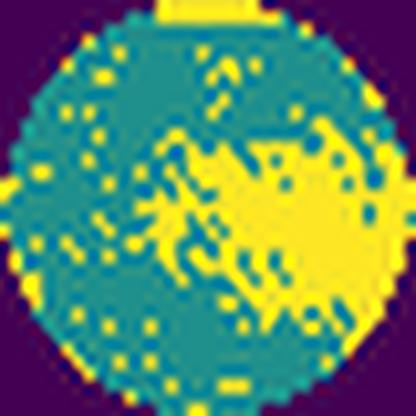Edge-Loc: (133, 115, 416, 356)
